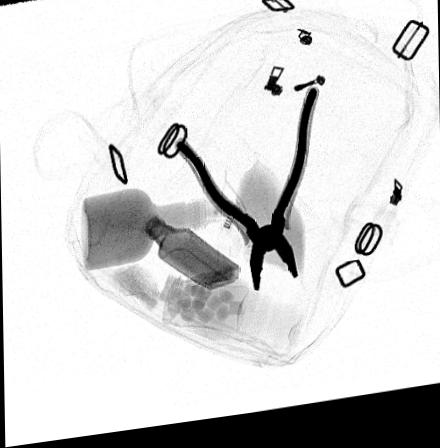Pliers: (173, 92, 317, 300)
